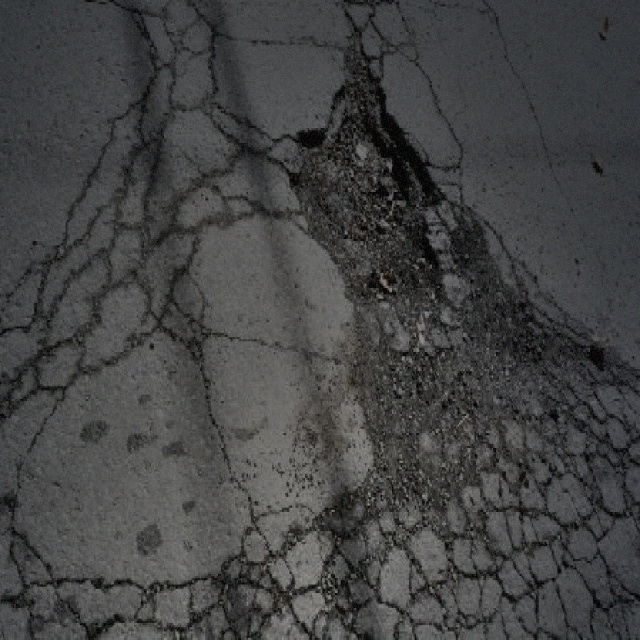pothole: (285, 28, 451, 311)
